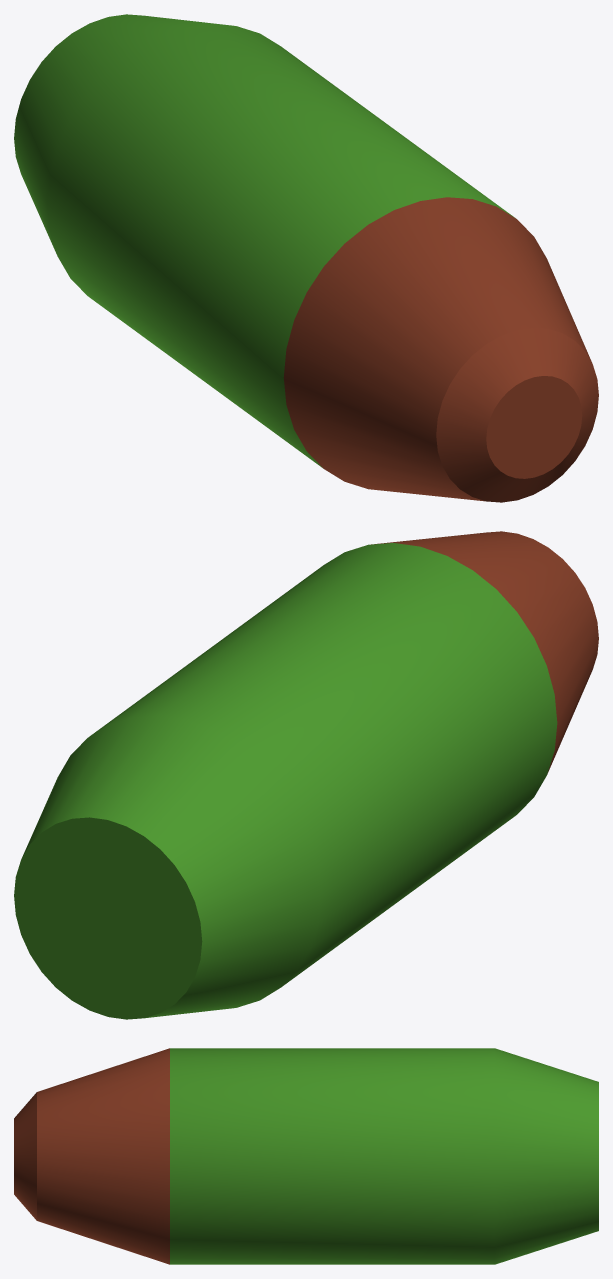
The model's file is bazooka_bullet.glb.
3 views of the same model, one above another, from view 1: azimuth 30°, elevation 25°; view 2: azimuth 150°, elevation 25°; view 3: azimuth 270°, elevation 25° (orthographic). The views are drawn at different scales.
Parts seen in each view (by area): view 1: Cylinder; view 2: Cylinder; view 3: Cylinder.
Part boxes in pixels (left/top/right/bottom): Cylinder: left=14, top=14, right=598, bottom=502; Cylinder: left=14, top=531, right=598, bottom=1019; Cylinder: left=14, top=1048, right=598, bottom=1264.
Bounding box in the file's own units: 0.4609 × 0.4609 × 1.24.
